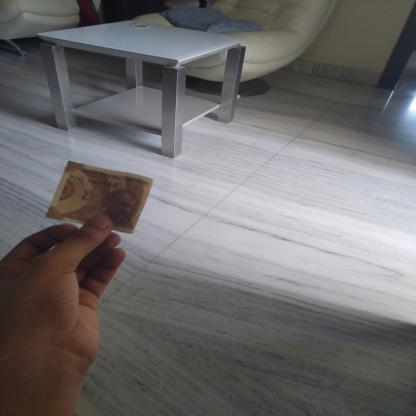New10Front: (45, 160, 151, 232)
